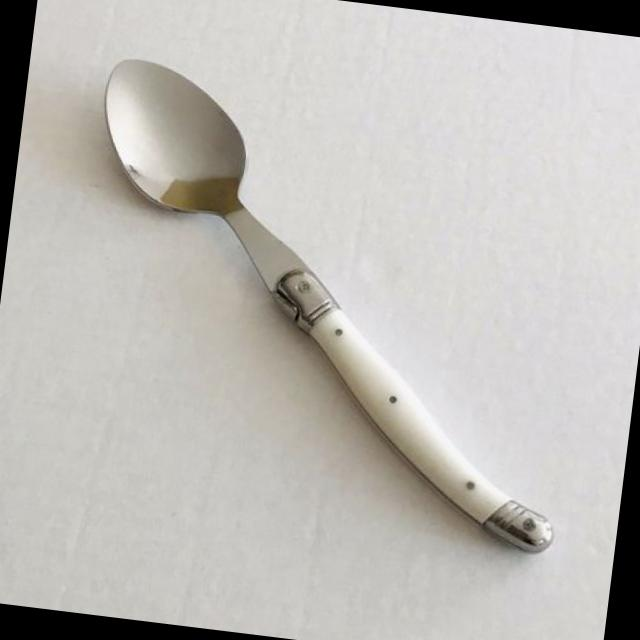spoon: (47, 49, 610, 581)
